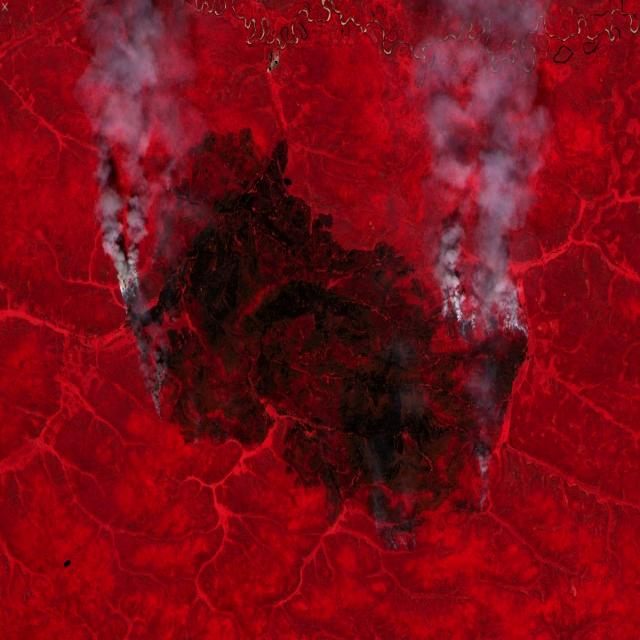fire: (118, 154, 186, 426), (440, 287, 532, 346), (361, 502, 424, 556), (464, 443, 494, 518)
